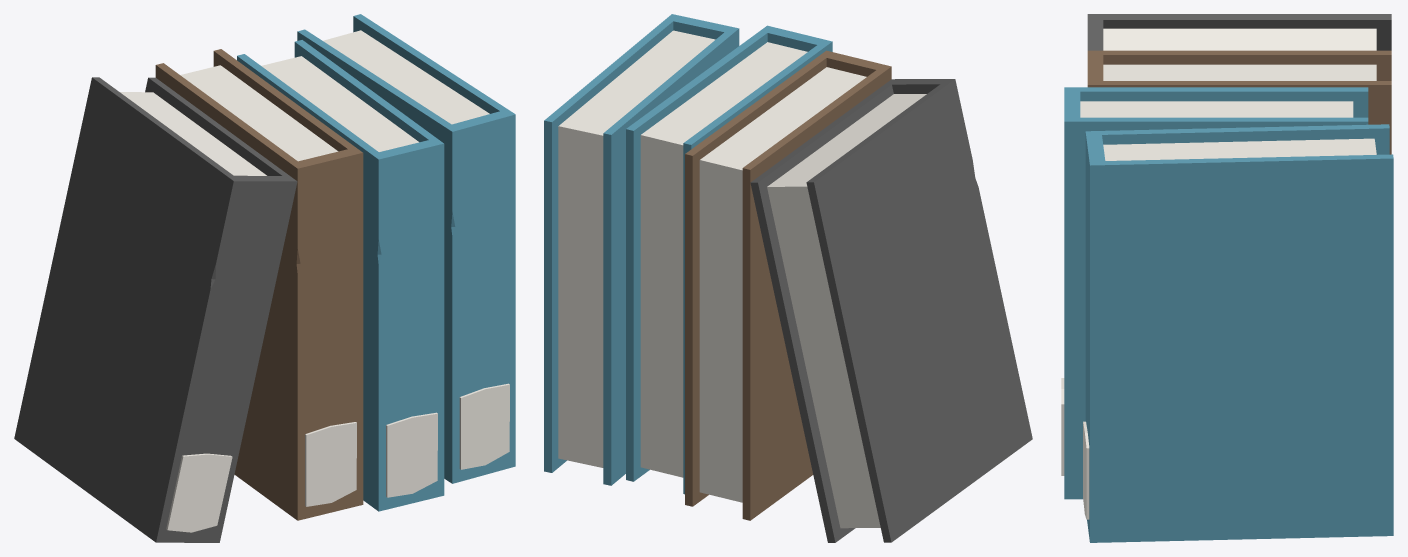
Rendered from Wh_Documents_02.fbx.
3 renders of one model, left to right at view 1: azimuth 30°, elevation 25°; view 2: azimuth 150°, elevation 25°; view 3: azimuth 270°, elevation 25°, orthographic. The views are drawn at different scales.
Parts seen in each view (by area): view 1: Cube.1037; view 2: Cube.1037; view 3: Cube.1037.
Part boxes in pixels (x1,y1,x2,y2): Cube.1037: (14, 14, 515, 542); Cube.1037: (544, 14, 1032, 542); Cube.1037: (1061, 14, 1393, 542).
Size of the model in its own units: 50.64 by 48.05 by 37.67.
